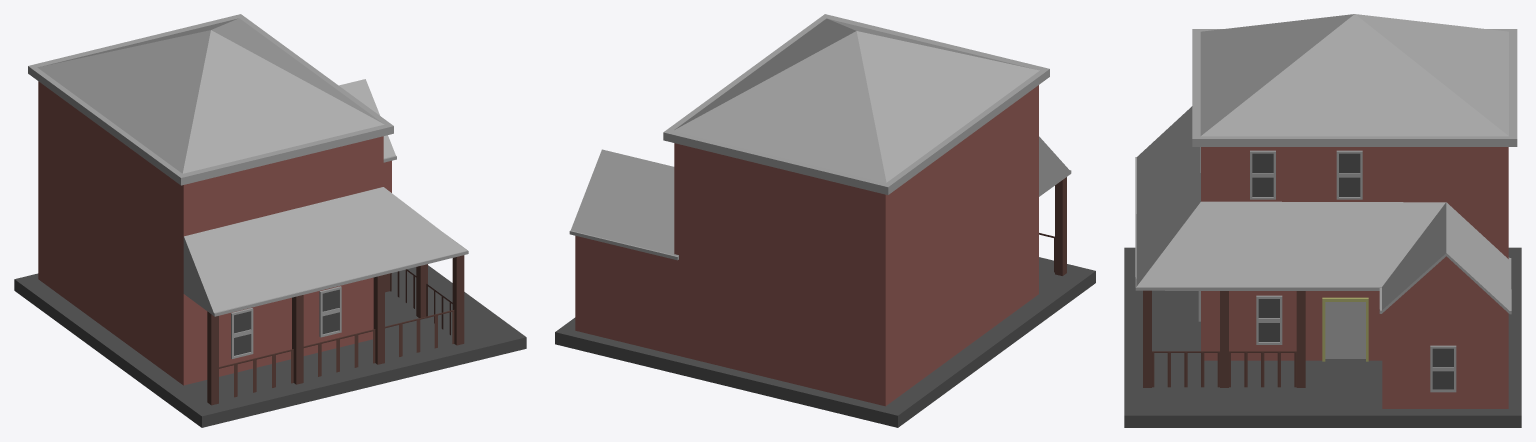
The model's file is House3 (1).fbx.
The picture shows the model from 3 angles, left to right: view 1: azimuth 30°, elevation 25°; view 2: azimuth 150°, elevation 25°; view 3: azimuth 270°, elevation 25°; orthographic projection. The views are drawn at different scales.
Visible parts, largest first — view 1: h3wall, h3rooftop, h3basement, h3roof.001, h3pillar.002, h3pillar.004, h3pillar.003, h3pilar, h3roof, h3fence.003, h3fence.002, Plane.004 (+5 smaller); view 2: h3wall, h3rooftop, h3basement, h3roof, h3pillar.004, h3roof.001; view 3: h3rooftop, h3wall, h3roof.001, h3basement, h3roof, h3pillar, h3pillar.002, Plane.006, Plane.007, h3pillar.001, Plane.003, Plane.002 (+6 smaller).
Boxes of the visible parts, <box> form: h3wall: <box>38,81,391,385</box>; h3rooftop: <box>28,14,393,185</box>; h3basement: <box>14,265,526,427</box>; h3roof.001: <box>183,187,468,316</box>; h3pillar.002: <box>452,255,464,345</box>; h3pillar.004: <box>207,311,218,405</box>; h3pillar.003: <box>292,295,303,384</box>; h3pilar: <box>373,274,384,364</box>; h3roof: <box>339,79,396,162</box>; h3fence.003: <box>303,329,375,376</box>; h3fence.002: <box>385,310,454,356</box>; Plane.004: <box>322,290,339,334</box>; h3wall: <box>575,85,1038,406</box>; h3rooftop: <box>663,14,1049,194</box>; h3basement: <box>555,257,1095,427</box>; h3roof: <box>569,149,678,260</box>; h3pillar.004: <box>1055,177,1066,275</box>; h3roof.001: <box>1039,136,1071,196</box>; h3rooftop: <box>1192,14,1517,146</box>; h3wall: <box>1201,147,1508,408</box>; h3roof.001: <box>1135,106,1445,290</box>; h3basement: <box>1124,247,1521,427</box>; h3roof: <box>1379,202,1511,314</box>; h3pillar: <box>1296,291,1305,387</box>; h3pillar.002: <box>1143,290,1151,387</box>; Plane.006: <box>1252,153,1273,196</box>; Plane.007: <box>1339,153,1360,196</box>; h3pillar.001: <box>1220,291,1228,387</box>; Plane.003: <box>1258,299,1279,341</box>; Plane.002: <box>1432,348,1453,389</box>.
Bounding box in the file's own units: 2555 × 2178 × 2555.
